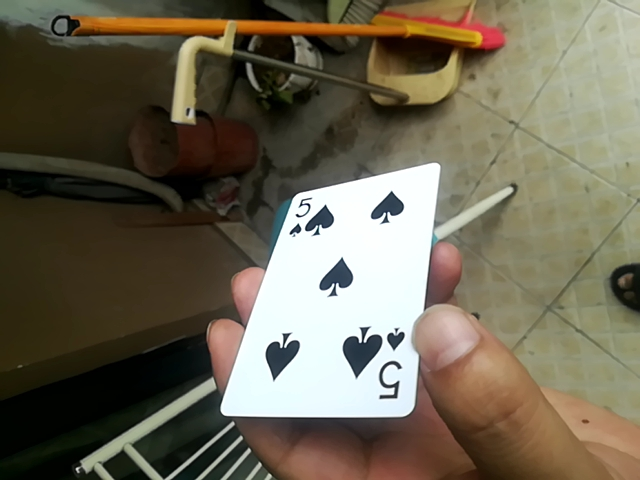ht 5: (207, 162, 442, 421)
